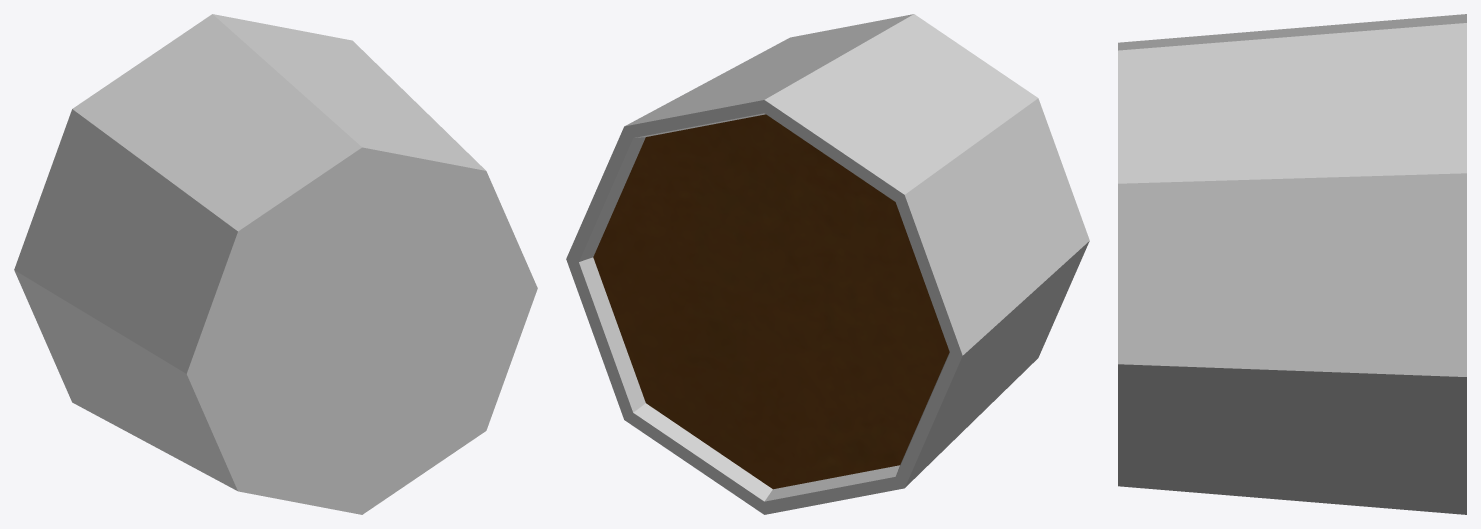
File: vase-street-long.obj
The picture shows the model from 3 angles, left to right: view 1: azimuth 30°, elevation 25°; view 2: azimuth 150°, elevation 25°; view 3: azimuth 270°, elevation 25°; orthographic projection. The views are drawn at different scales.
Parts seen in each view (by area): view 1: vase-street-long_Circle.022; view 2: vase-street-long_Circle.022; view 3: vase-street-long_Circle.022.
Part boxes in pixels (x1,y1,x2,y2): vase-street-long_Circle.022: (14,14,537,514); vase-street-long_Circle.022: (566,14,1089,514); vase-street-long_Circle.022: (1118,14,1466,514).
Bounding box in the file's own units: 2.66 × 2.66 × 1.74.
